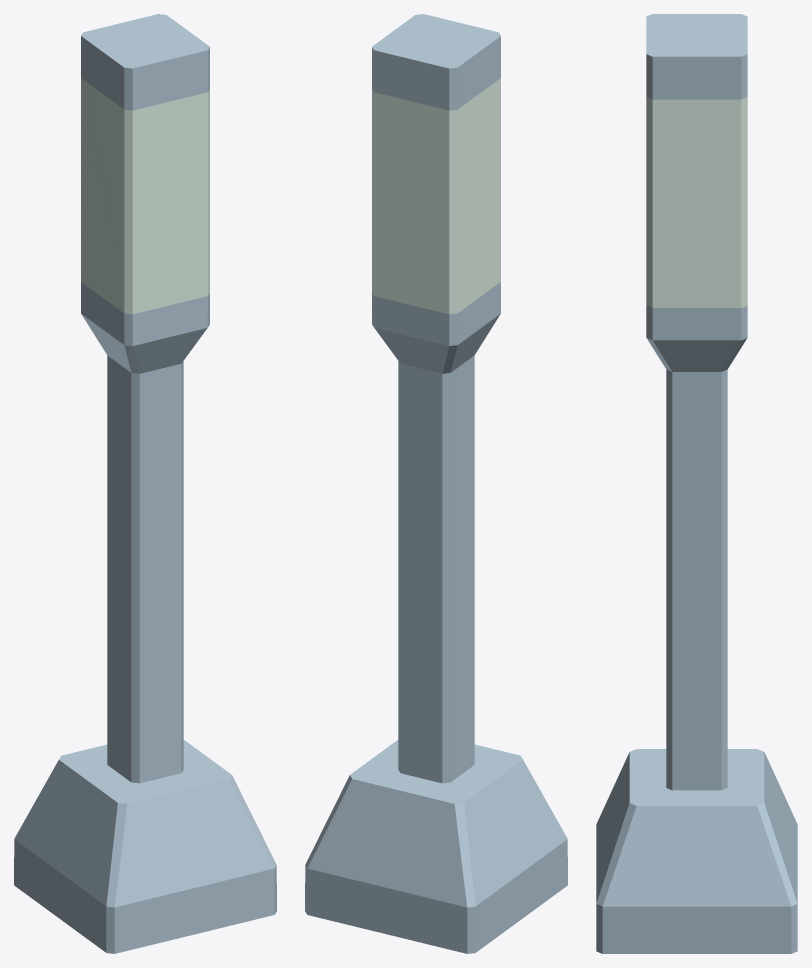
Rendered from streetlight_02.fbx.
The picture shows the model from 3 angles, left to right: view 1: azimuth 30°, elevation 25°; view 2: azimuth 150°, elevation 25°; view 3: azimuth 270°, elevation 25°; orthographic projection. The views are drawn at different scales.
Visible parts, largest first — view 1: streetlight_02; view 2: streetlight_02; view 3: streetlight_02.
Boxes of the visible parts, left/top/right/bottom form: streetlight_02: left=14, top=14, right=276, bottom=953; streetlight_02: left=305, top=14, right=567, bottom=953; streetlight_02: left=596, top=14, right=797, bottom=953.
Size of the model in its own units: 1.15 by 5.54 by 1.15.
